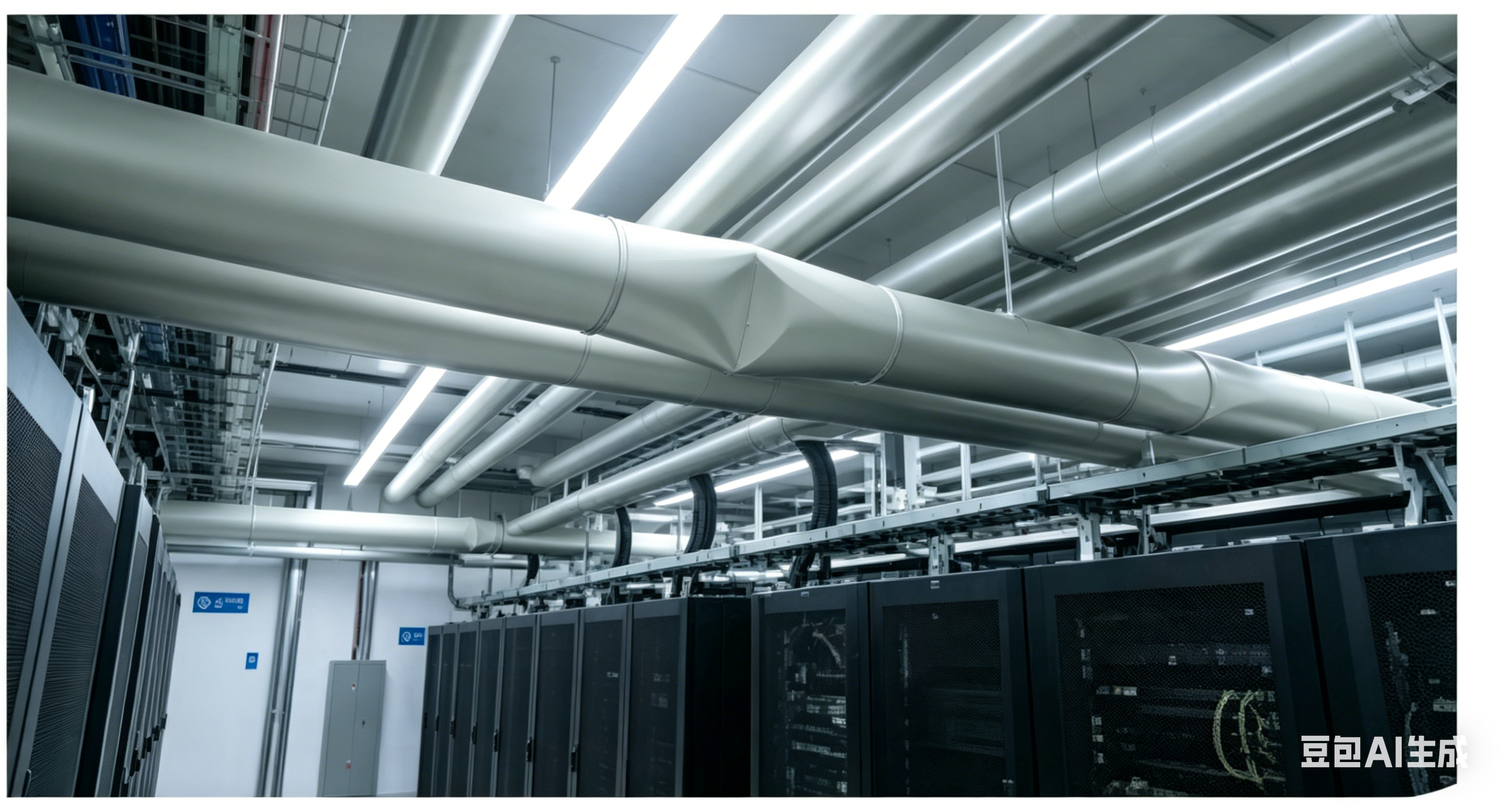Leakage: (677, 238, 811, 371)
